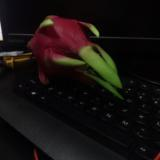pitaya: (32, 16, 118, 82)
